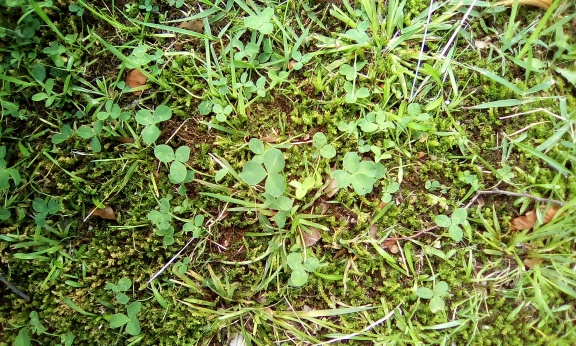4leaf: (331, 152, 378, 196)
